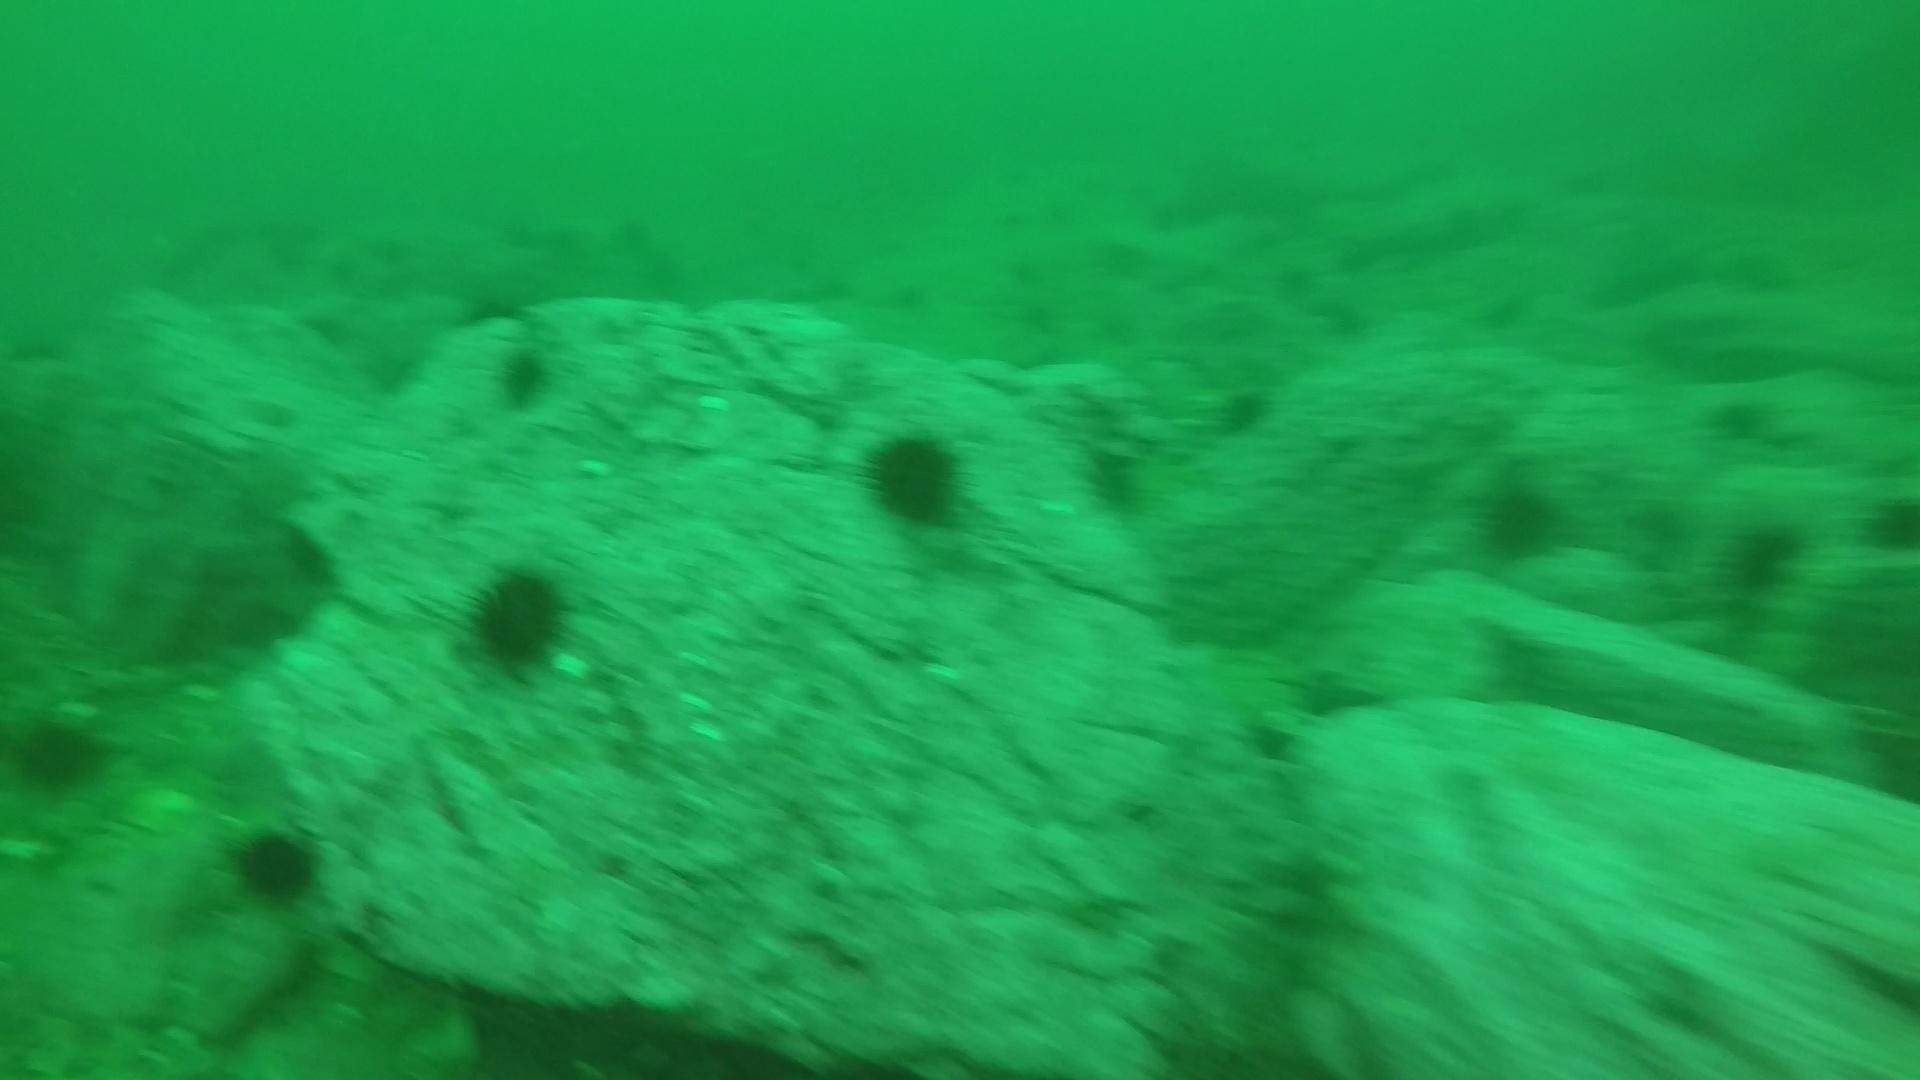echinus: (455, 558, 578, 680), (856, 423, 973, 533), (7, 703, 113, 798), (224, 819, 328, 913), (1470, 472, 1569, 566), (1720, 512, 1811, 596), (487, 340, 560, 415), (1857, 487, 1920, 560), (1207, 378, 1278, 440), (460, 289, 522, 339), (600, 204, 662, 255), (626, 243, 688, 293), (799, 266, 861, 316), (876, 276, 938, 326), (1015, 291, 1077, 342), (997, 255, 1059, 305), (988, 194, 1050, 244), (1091, 306, 1153, 356), (1091, 220, 1153, 270), (1211, 295, 1273, 345), (1251, 252, 1313, 302), (1305, 291, 1367, 342), (1317, 231, 1379, 281), (1469, 285, 1531, 335), (1425, 196, 1487, 247), (373, 348, 435, 398), (291, 303, 353, 353), (309, 243, 371, 293), (360, 261, 422, 311), (356, 222, 418, 272), (483, 202, 545, 252), (535, 204, 597, 255), (1709, 392, 1771, 442), (1759, 415, 1821, 465), (1643, 241, 1705, 291), (1691, 295, 1753, 345), (1607, 262, 1669, 313), (1549, 160, 1611, 210), (1034, 185, 1096, 233), (1735, 243, 1797, 291)
holothurian: (1224, 800, 1382, 1015)
